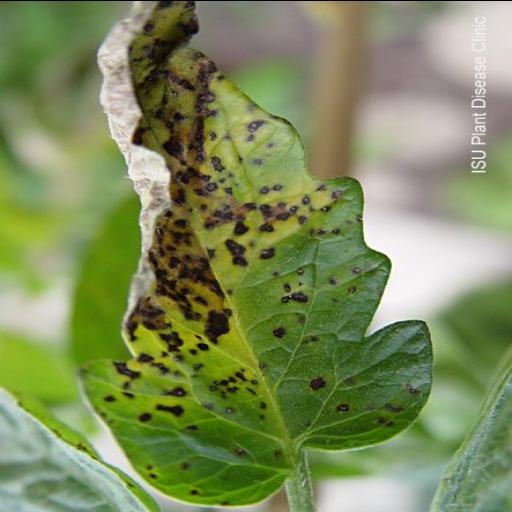Septoria: (75, 0, 437, 510)
